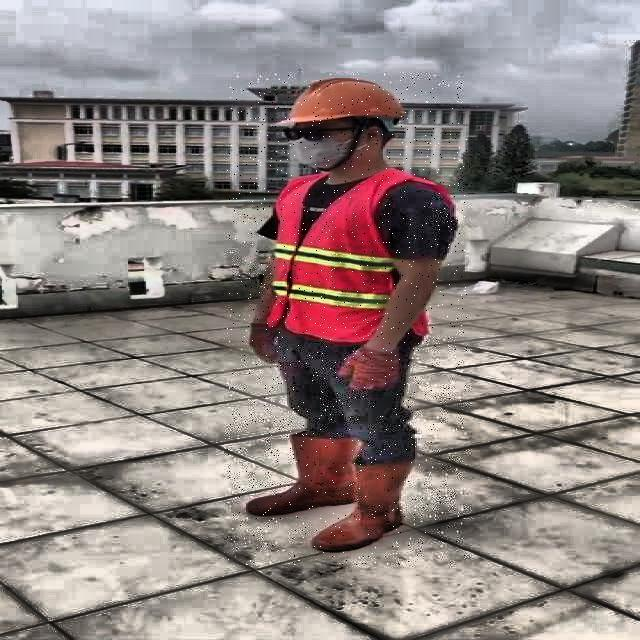safety_helmet: (276, 76, 410, 126)
safety_jacket: (272, 171, 430, 340)
